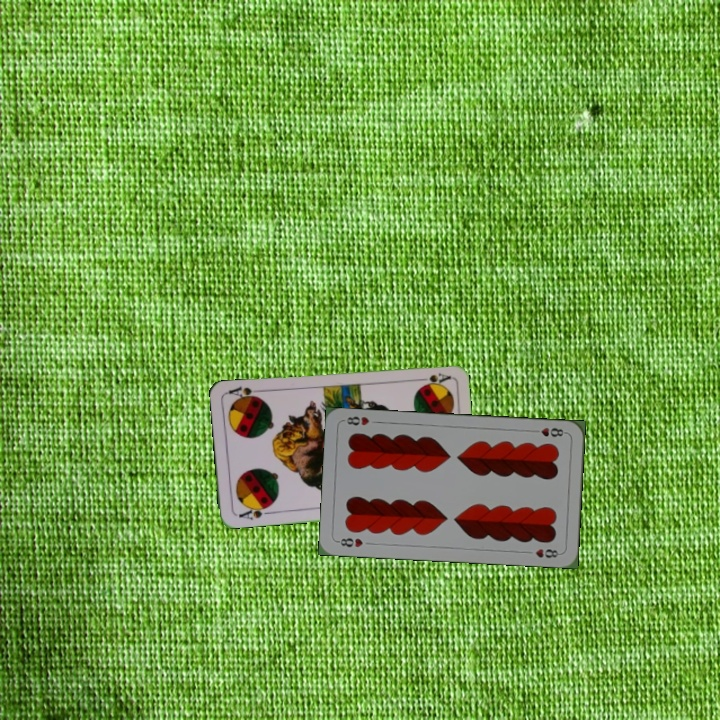H8: (528, 424, 569, 439), (333, 534, 365, 550)
SA: (235, 501, 274, 522), (412, 369, 453, 388)
